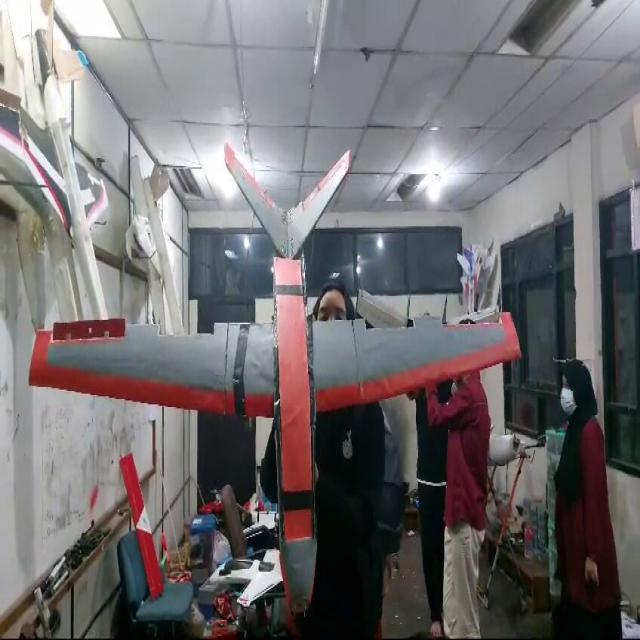plane: (28, 141, 522, 621)
